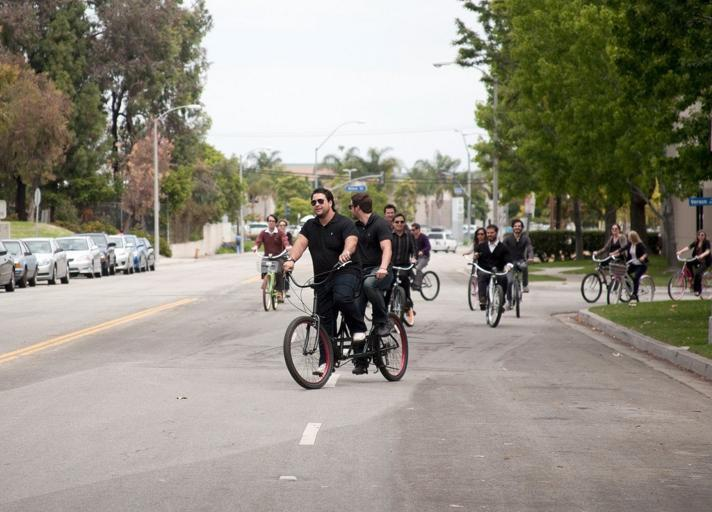non-vehicle: (276, 259, 408, 383), (248, 245, 293, 310), (468, 256, 509, 325), (580, 249, 632, 301), (606, 252, 656, 305), (667, 251, 712, 300), (506, 259, 532, 319), (461, 252, 483, 311)
